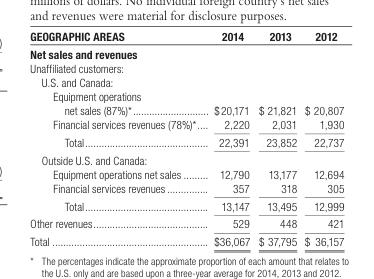table: (29, 28, 343, 247)
table column: (29, 28, 204, 247), (204, 28, 253, 247), (253, 28, 300, 247), (300, 28, 343, 247)
table column header: (29, 28, 343, 44)
table projected row header: (29, 44, 343, 60), (29, 150, 343, 166), (29, 60, 343, 74), (29, 74, 343, 88)
table row: (29, 88, 343, 116), (29, 132, 343, 150), (29, 196, 343, 214), (29, 214, 343, 232), (29, 28, 343, 44), (29, 44, 343, 60), (29, 116, 343, 132), (29, 150, 343, 166), (29, 180, 343, 196), (29, 232, 343, 247), (29, 60, 343, 74), (29, 74, 343, 88), (29, 166, 343, 180)
